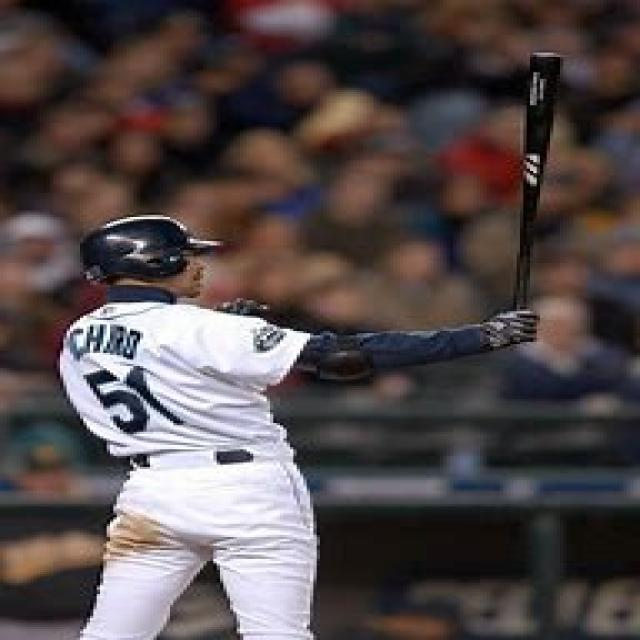bat: (507, 51, 569, 347)
